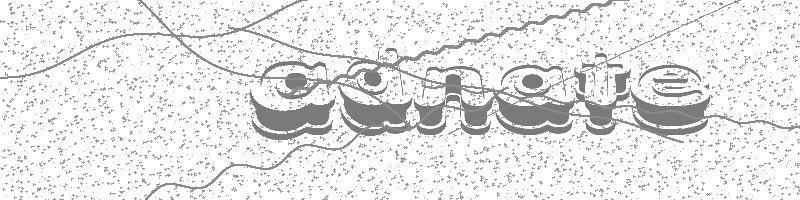a: (248, 59, 338, 141), (494, 63, 576, 136)
d: (339, 47, 413, 137)
e: (629, 64, 710, 137)
n: (414, 66, 491, 136)
t: (574, 52, 630, 136)
